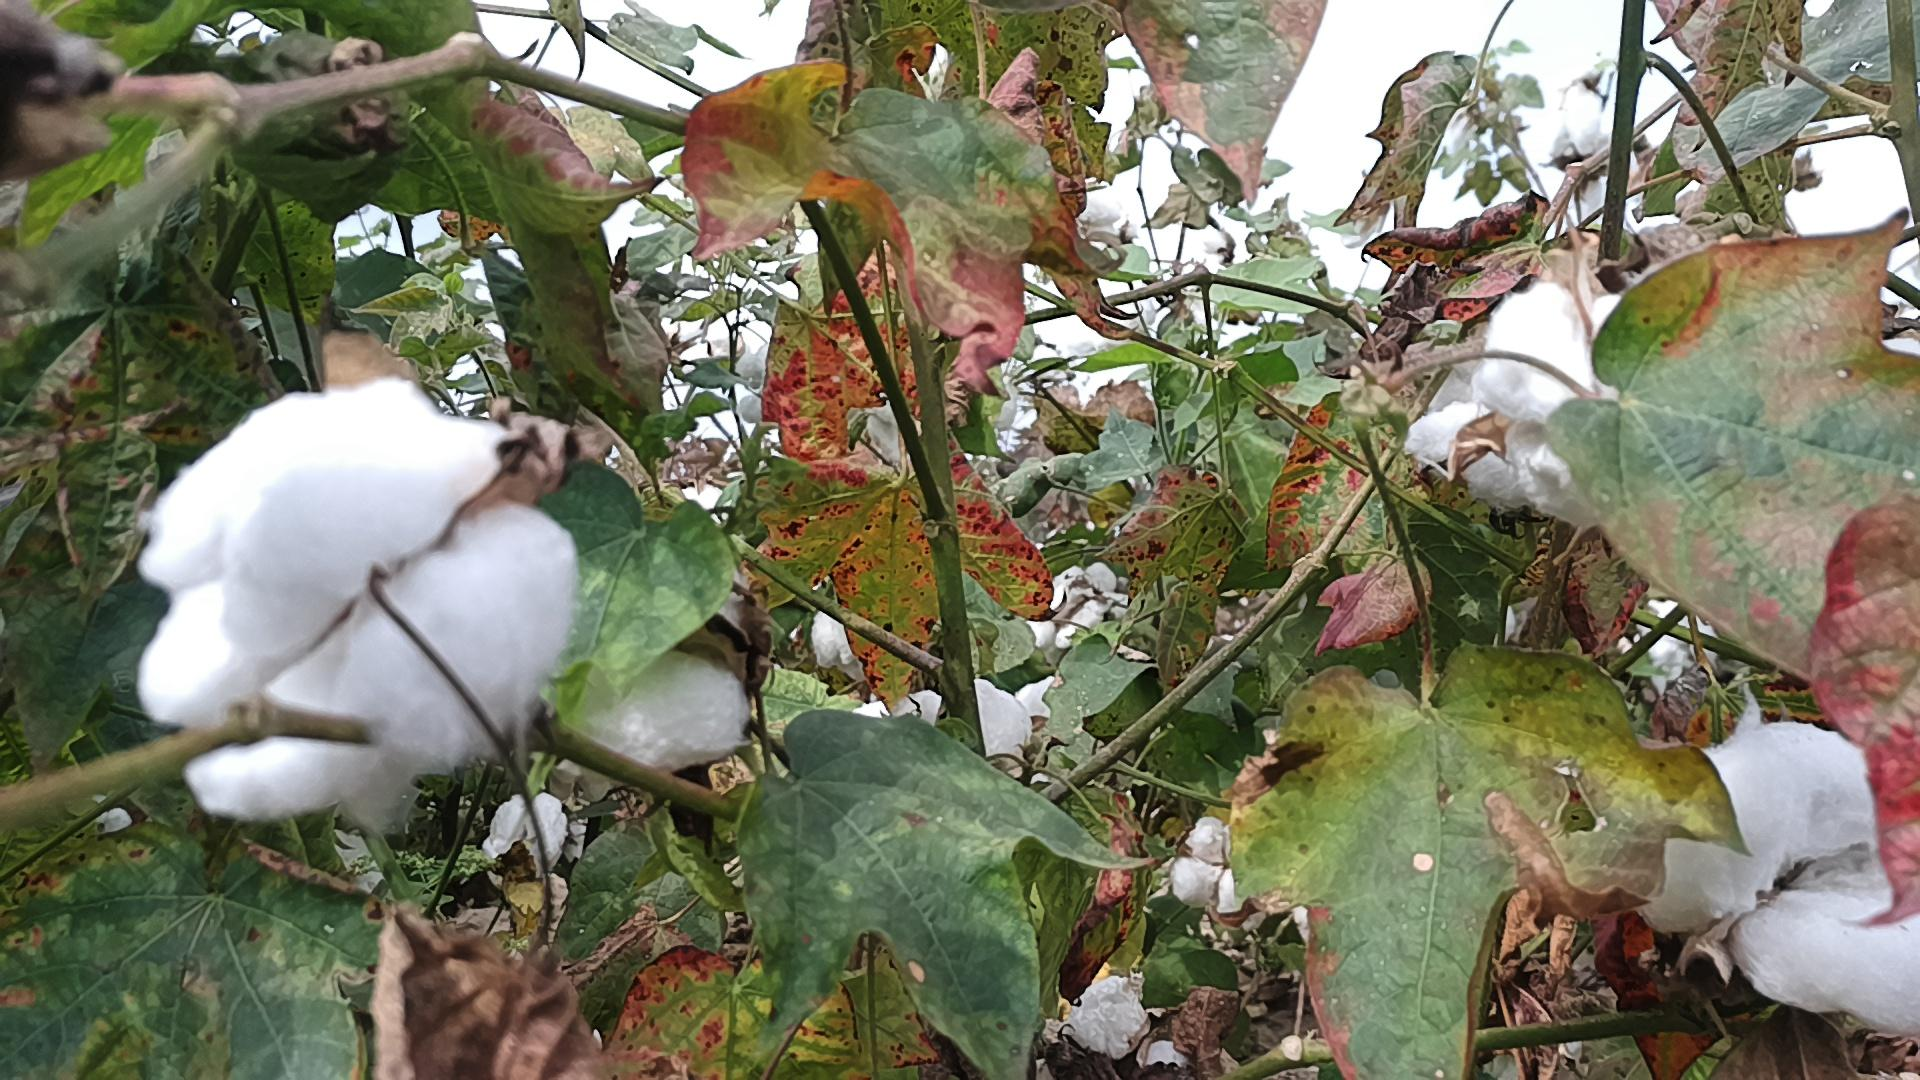cotton_ready: (142, 373, 591, 819), (1643, 725, 1920, 1036), (554, 560, 753, 804), (1478, 278, 1634, 520), (852, 678, 1033, 758), (1063, 973, 1189, 1080), (1400, 404, 1527, 509), (1027, 566, 1118, 651), (1171, 818, 1250, 915), (480, 798, 563, 870), (811, 613, 853, 671)
